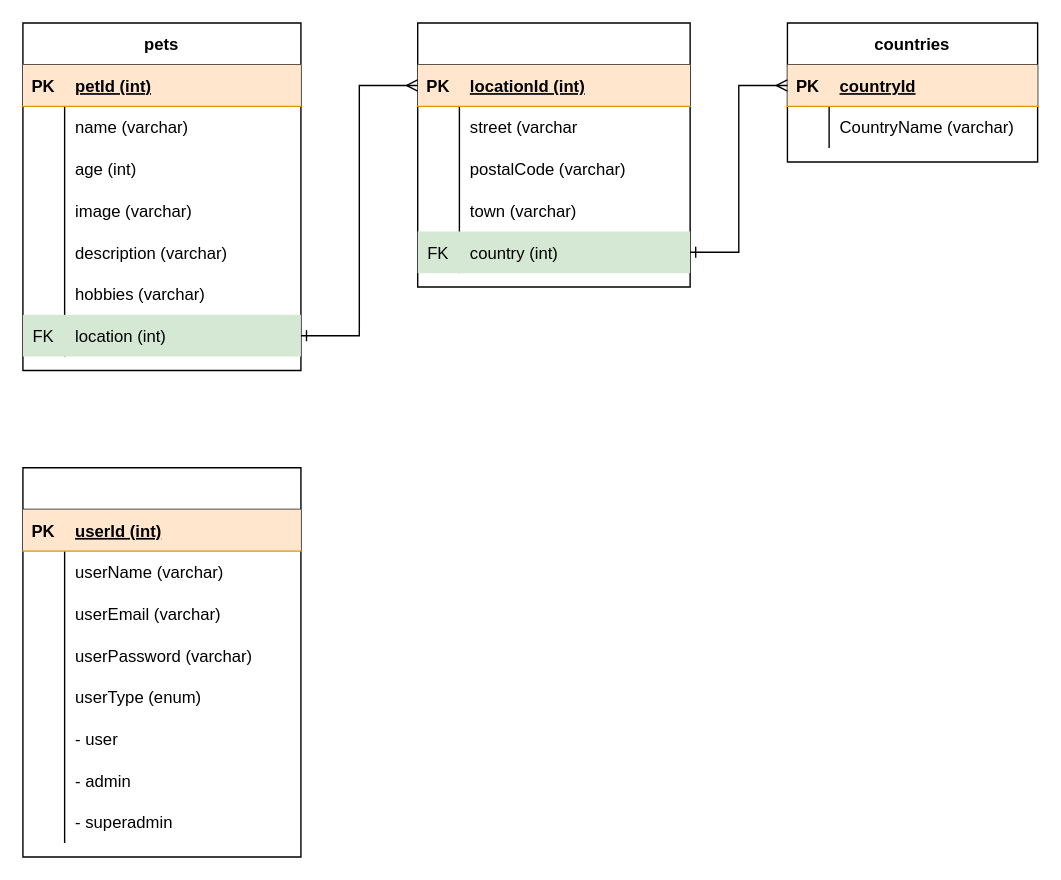
Image size: 1061x880. Some labels were removed from this diagram. The box of each missing label's shape, as (x1, y1, x2, y2) in pixels:
locations: (416, 22, 690, 287)
users: (22, 466, 301, 857)
